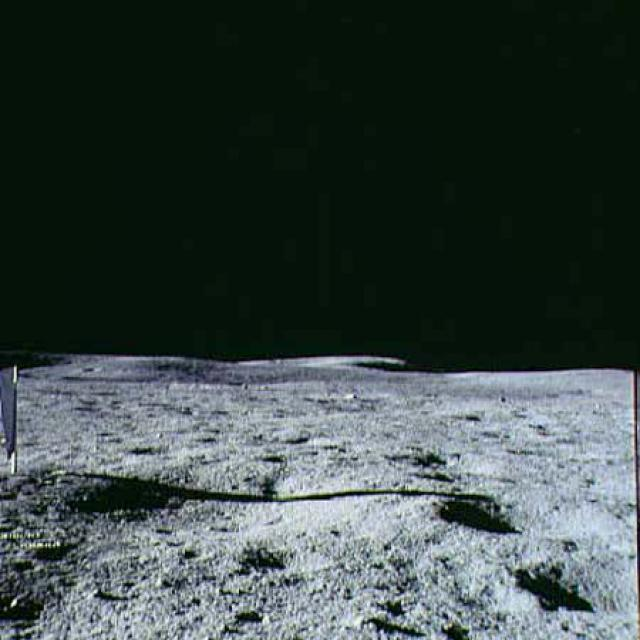crater: (39, 439, 399, 540), (411, 481, 619, 538), (493, 548, 639, 625), (0, 579, 81, 639), (388, 435, 491, 474), (244, 542, 344, 578)
